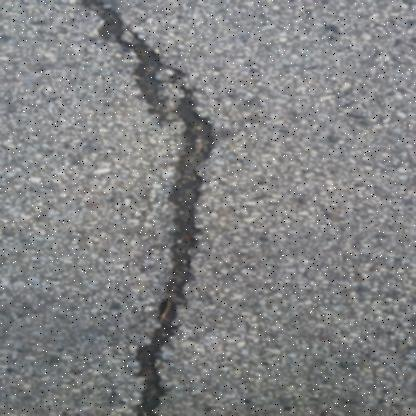Cracks: (45, 0, 233, 415)
